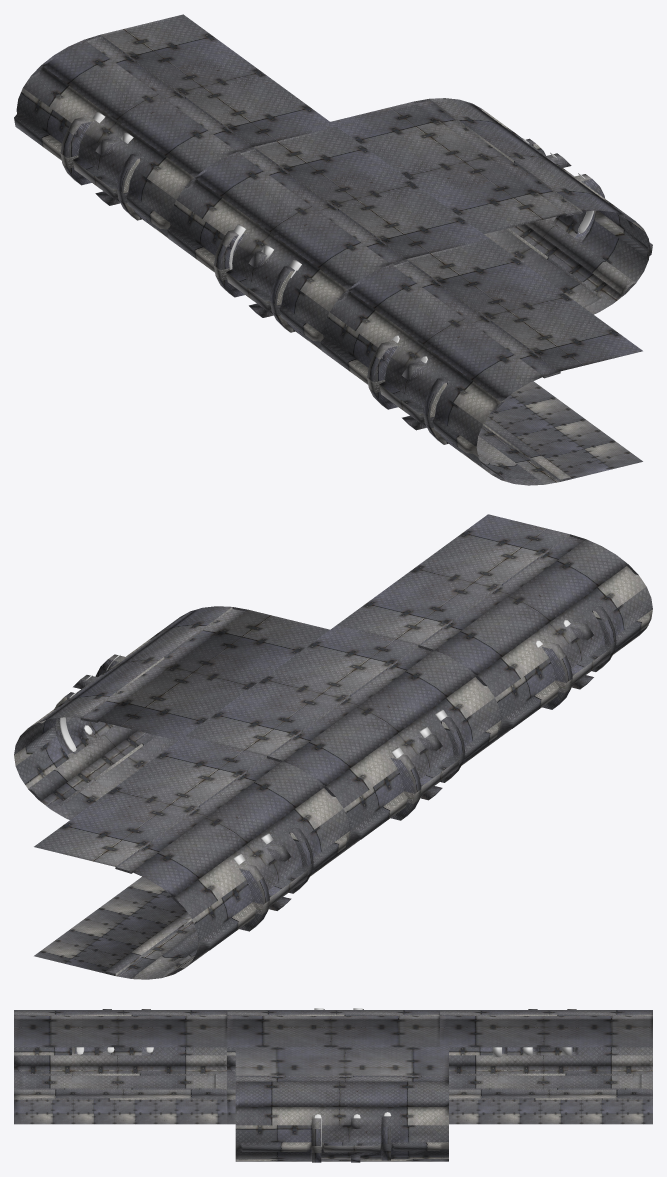
File: race_spaceship.fbx
3 views of the same model, one above another, from view 1: azimuth 30°, elevation 25°; view 2: azimuth 150°, elevation 25°; view 3: azimuth 270°, elevation 25° (orthographic). The views are drawn at different scales.
Parts seen in each view (by area): view 1: Cylinder.002, Cylinder.003, Cylinder.000, Cylinder.007; view 2: Cylinder.003, Cylinder.002, Cylinder.000, Cylinder.007; view 3: Cylinder.007, Cylinder.002, Cylinder.003, Cylinder.000, Cylinder.004.
Boxes of the visible parts, x1,y1,x2,y2 form: Cylinder.002: (320, 239, 642, 485); Cylinder.003: (14, 14, 336, 238); Cylinder.000: (167, 126, 489, 350); Cylinder.007: (330, 98, 652, 314); Cylinder.003: (34, 736, 349, 979); Cylinder.002: (337, 514, 652, 745); Cylinder.000: (185, 625, 501, 856); Cylinder.007: (14, 606, 329, 819); Cylinder.007: (235, 1047, 448, 1162); Cylinder.002: (14, 1009, 227, 1124); Cylinder.003: (439, 1009, 652, 1124); Cylinder.000: (227, 1009, 439, 1124); Cylinder.004: (492, 1047, 571, 1057).
Bounding box in the file's own units: 7180 × 2135 × 16109.
